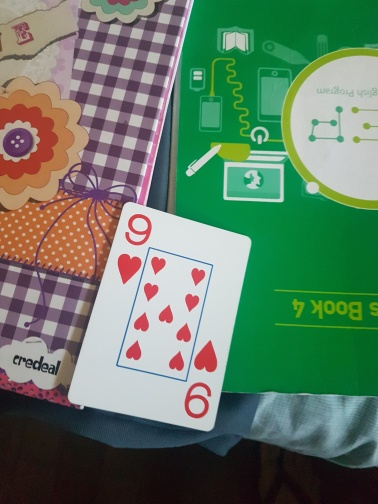nine: (69, 200, 249, 430)
